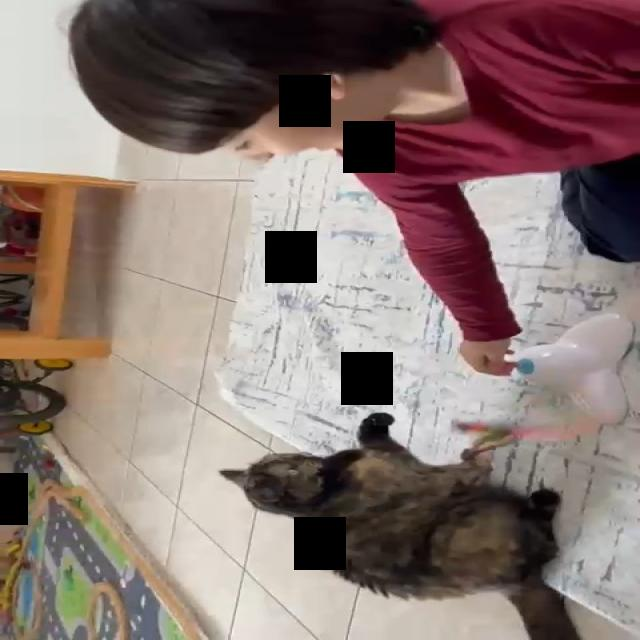authorized: (218, 412, 582, 638)
